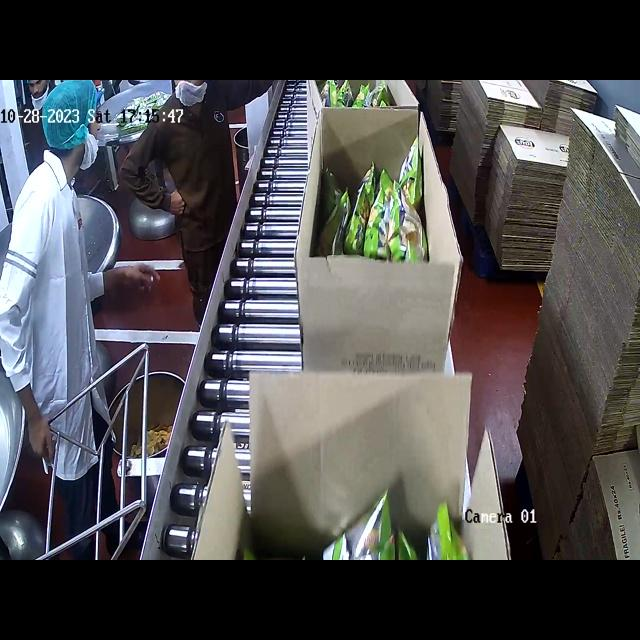yogurt: (313, 143, 428, 265), (285, 502, 453, 560), (319, 81, 399, 108)
